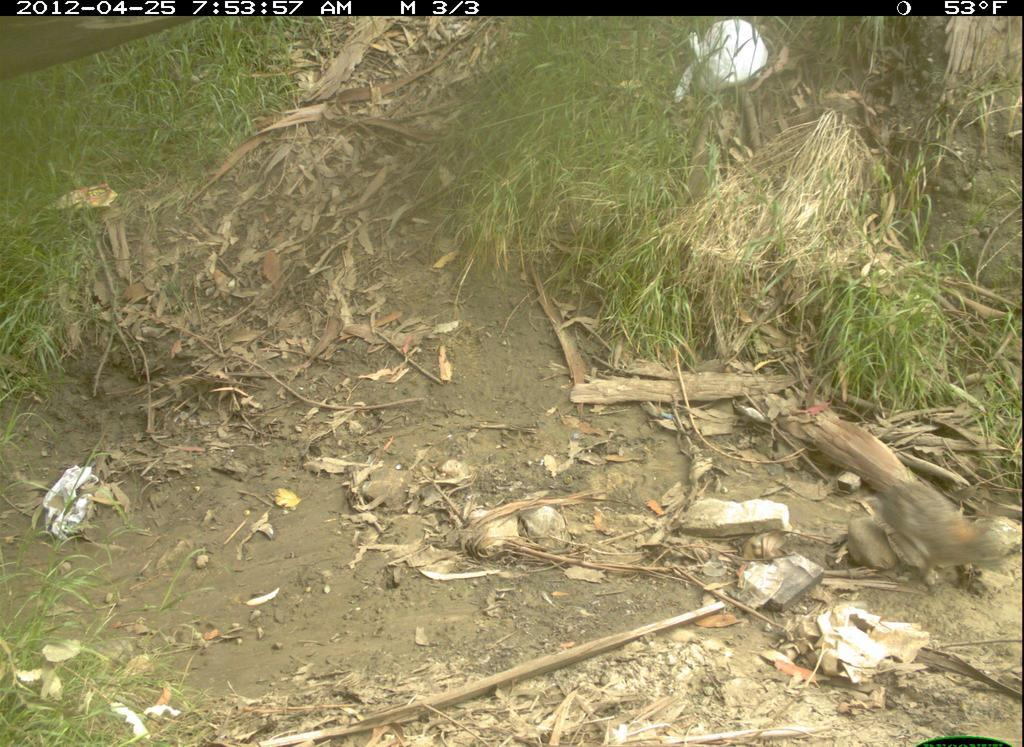rabbit: (856, 425, 1024, 590)
